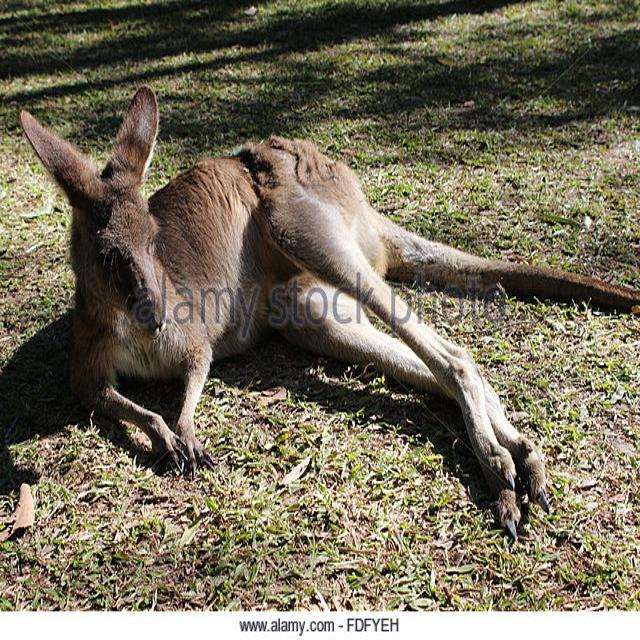kangaroo: (13, 94, 398, 428)
